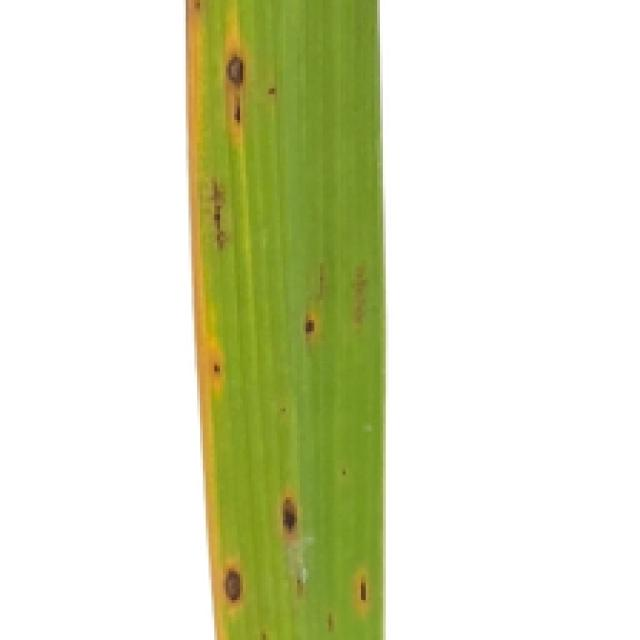Rice___Rice_Blast: (184, 0, 386, 637)
